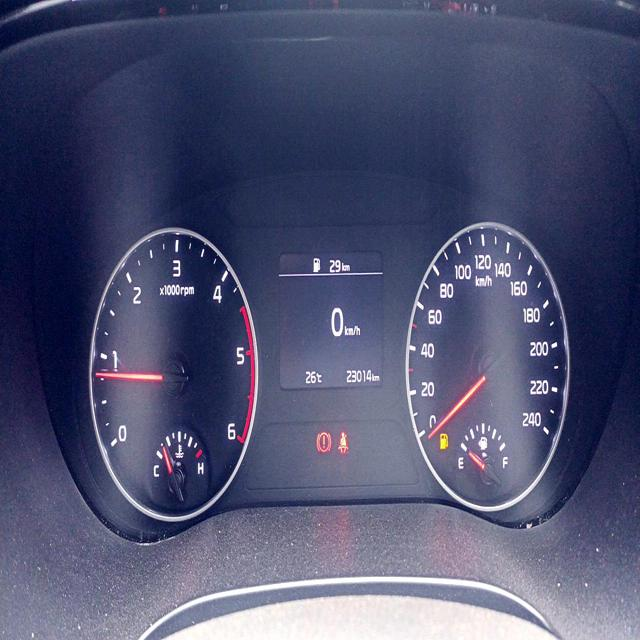odometer: (344, 366, 372, 384)
